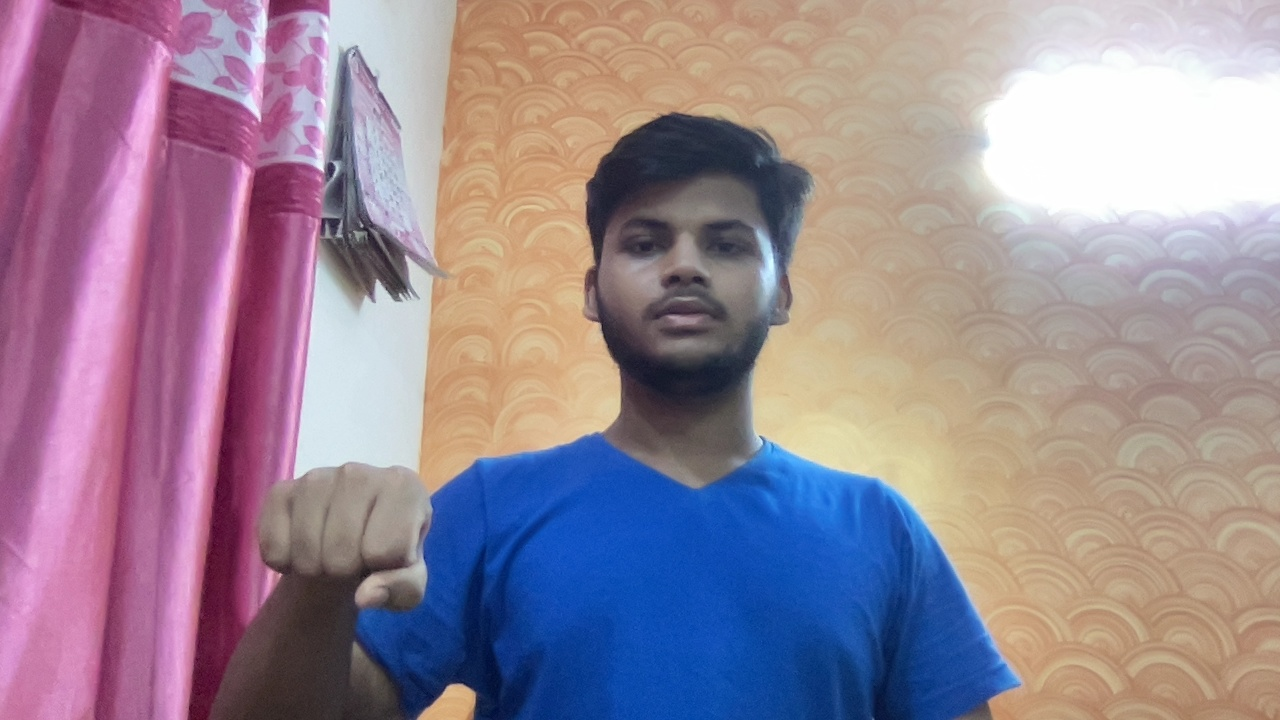yes: (216, 428, 465, 645)
